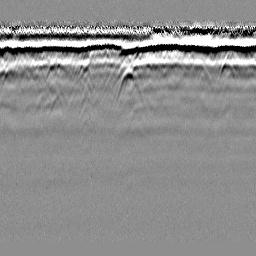cavity: (111, 65, 144, 110)
